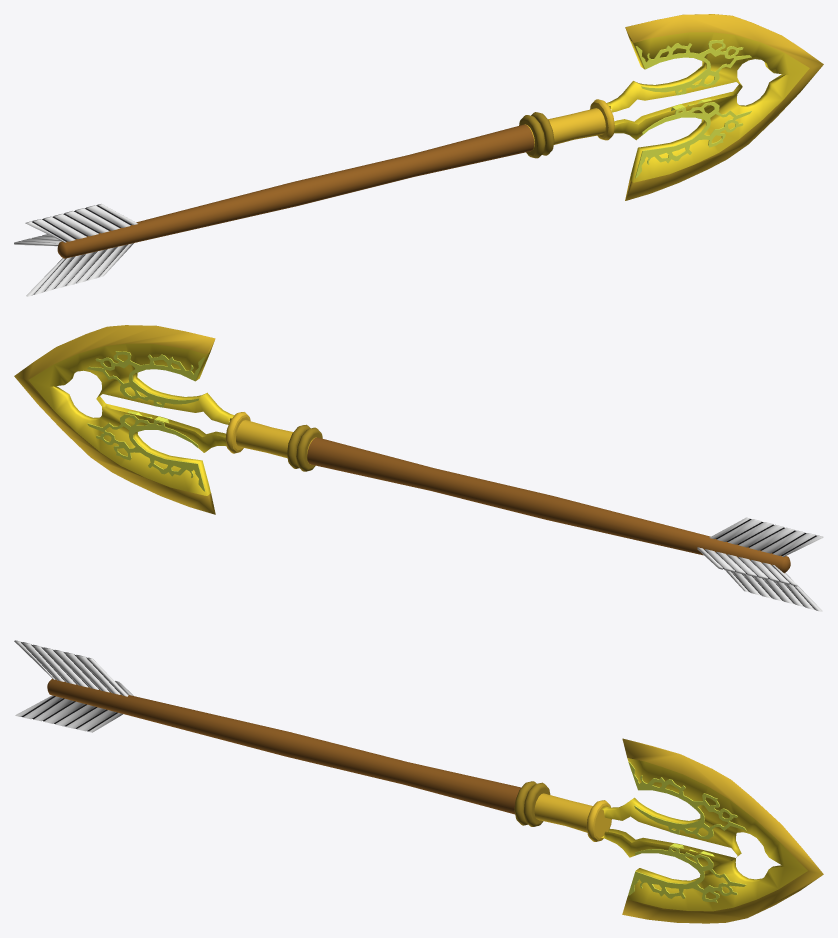
Rendered from stand-arrow.fbx.
3 views of the same model, one above another, from view 1: azimuth 30°, elevation 25°; view 2: azimuth 150°, elevation 25°; view 3: azimuth 330°, elevation 25° (orthographic).
Parts seen in each view (by area): view 1: Cylinder.003, Vert.001_Vert.003, Vert.017, Vert.016, Vert.015, Cylinder.002, Torus.002_Torus, Vert.004_Vert.008; view 2: Vert.001_Vert.003, Cylinder.003, Vert.017, Vert.016, Vert.015, Cylinder.002, Torus.002_Torus, Vert.004_Vert.008; view 3: Cylinder.003, Vert.001_Vert.003, Vert.017, Vert.016, Vert.015, Cylinder.002, Torus.002_Torus, Vert.004_Vert.008.
Boxes of the visible parts, x1=… form: Cylinder.003: x1=57, y1=124, x2=534, y2=258; Vert.001_Vert.003: x1=606, y1=32, x2=809, y2=182; Vert.017: x1=625, y1=14, x2=823, y2=200; Vert.016: x1=14, y1=204, x2=137, y2=296; Vert.015: x1=630, y1=39, x2=751, y2=178; Cylinder.002: x1=525, y1=99, x2=614, y2=149; Torus.002_Torus: x1=519, y1=112, x2=554, y2=158; Vert.004_Vert.008: x1=31, y1=205, x2=131, y2=294; Vert.001_Vert.003: x1=28, y1=343, x2=234, y2=495; Cylinder.003: x1=307, y1=437, x2=790, y2=573; Vert.017: x1=14, y1=325, x2=215, y2=514; Vert.016: x1=697, y1=517, x2=823, y2=611; Vert.015: x1=87, y1=351, x2=209, y2=491; Cylinder.002: x1=225, y1=412, x2=316, y2=464; Torus.002_Torus: x1=287, y1=424, x2=322, y2=471; Vert.004_Vert.008: x1=705, y1=519, x2=817, y2=609; Cylinder.003: x1=47, y1=678, x2=521, y2=814; Vert.001_Vert.003: x1=601, y1=758, x2=807, y2=911; Vert.017: x1=622, y1=738, x2=823, y2=923; Vert.016: x1=14, y1=640, x2=133, y2=732; Vert.015: x1=628, y1=761, x2=746, y2=902; Cylinder.002: x1=534, y1=793, x2=611, y2=841; Torus.002_Torus: x1=514, y1=781, x2=550, y2=826; Vert.004_Vert.008: x1=21, y1=642, x2=127, y2=731.
Bounding box in the file's own units: 634 × 132 × 42.69.
